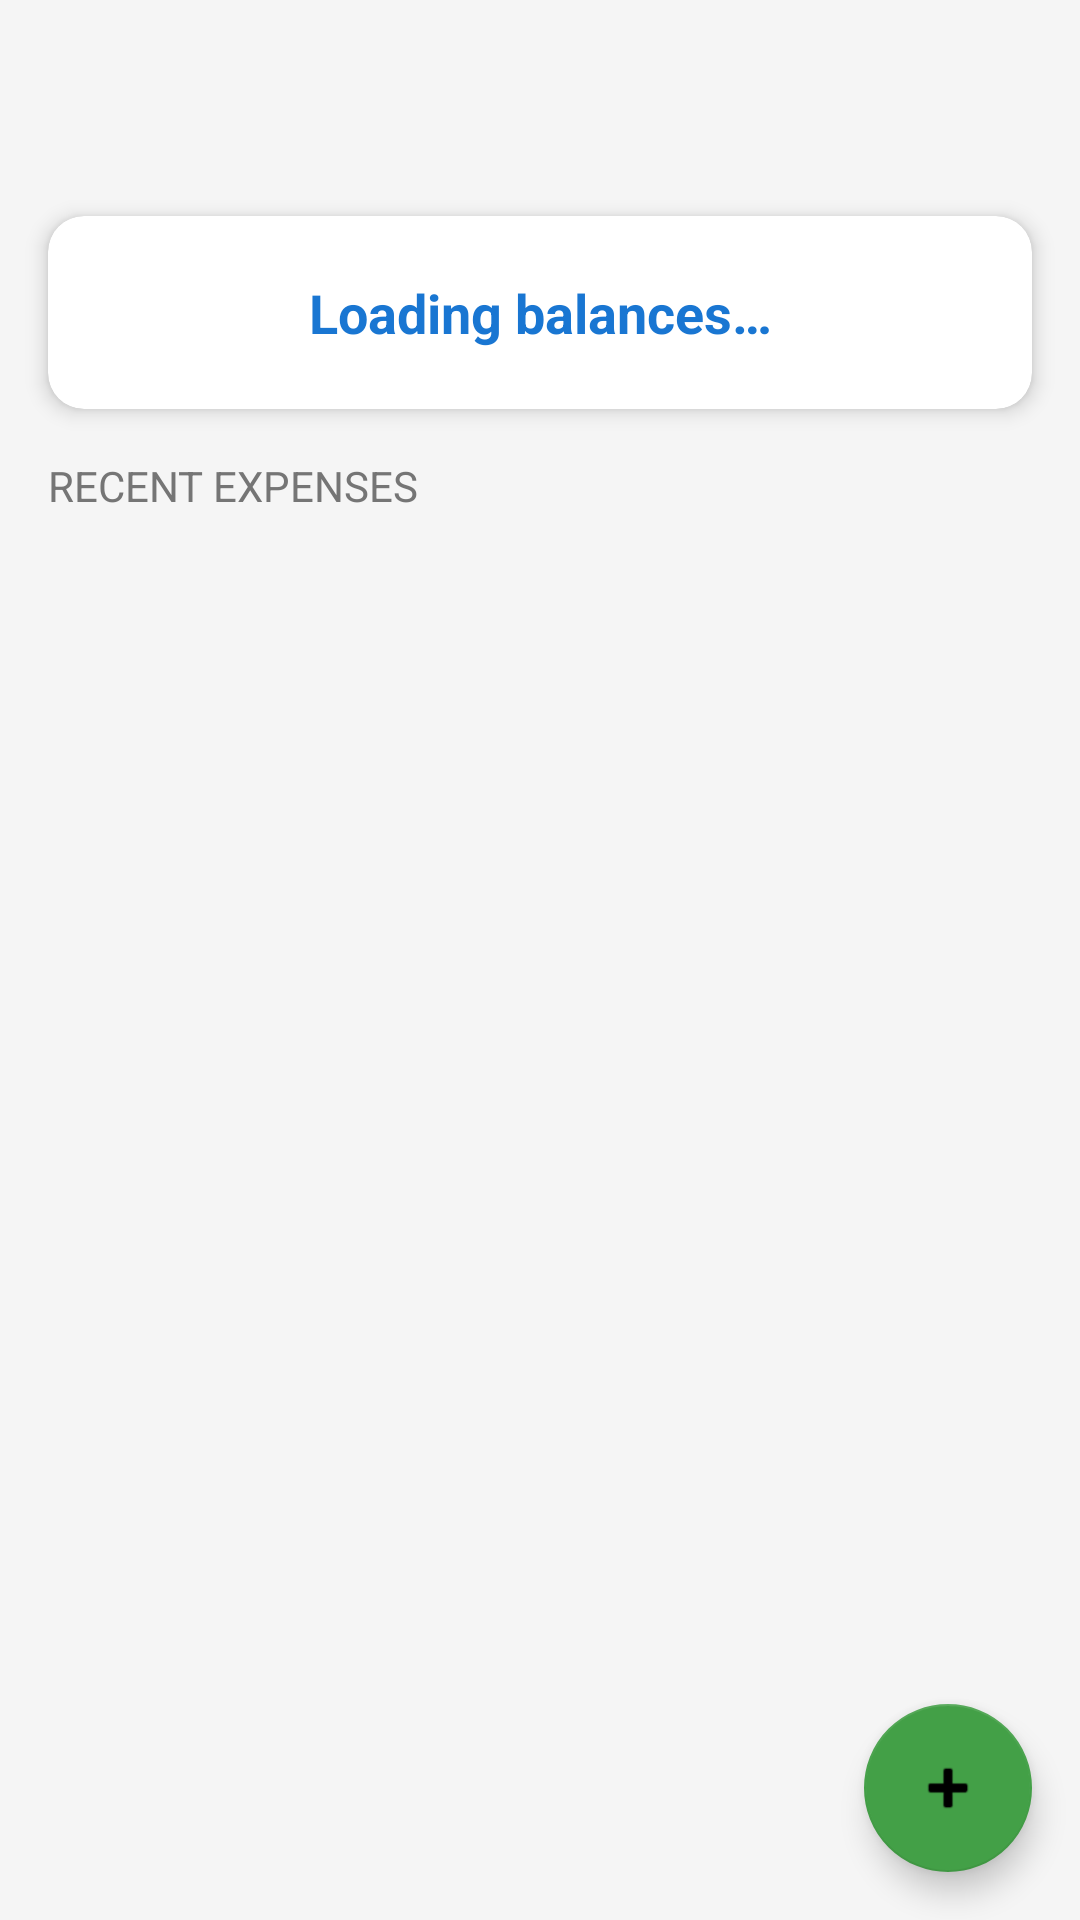

Screen size 1080x1920. Icon name, then its center in pixels as (x,y):
New expense: (948,1788)
